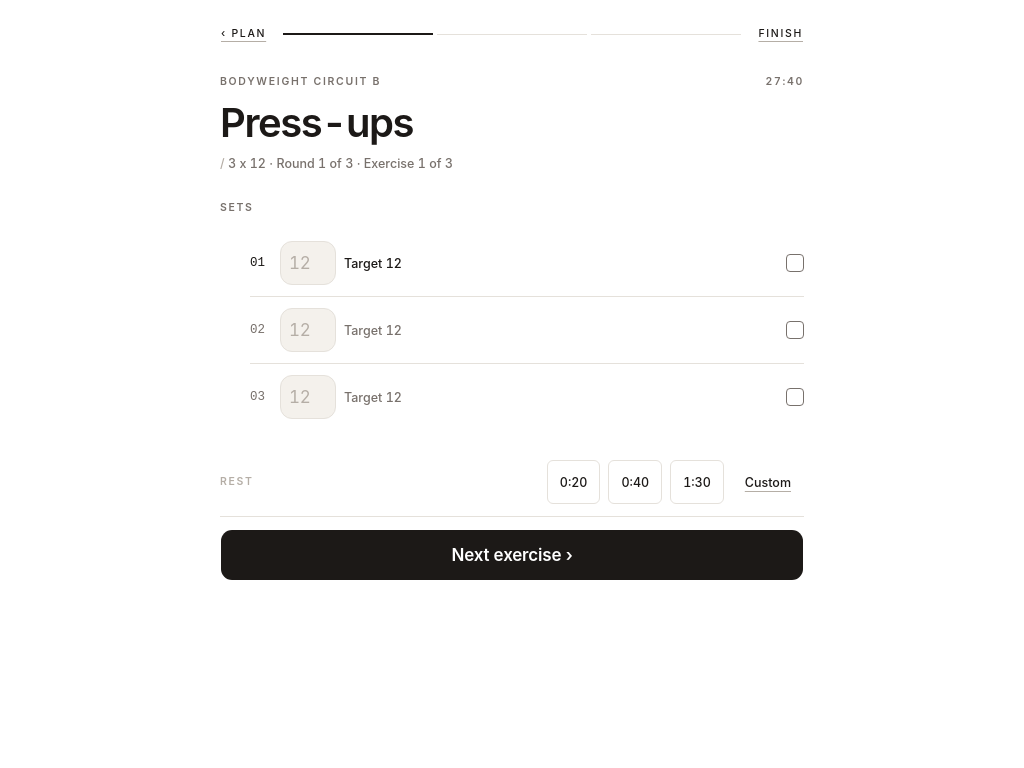
Test: the session clock — FUEL-124 › Mark done with an empty duration records the elapsed minutes
This screenshot has width=1024, height=768.
Click the button with aria-label "Finish session" at x=781, y=34, box [758,12,804,56]
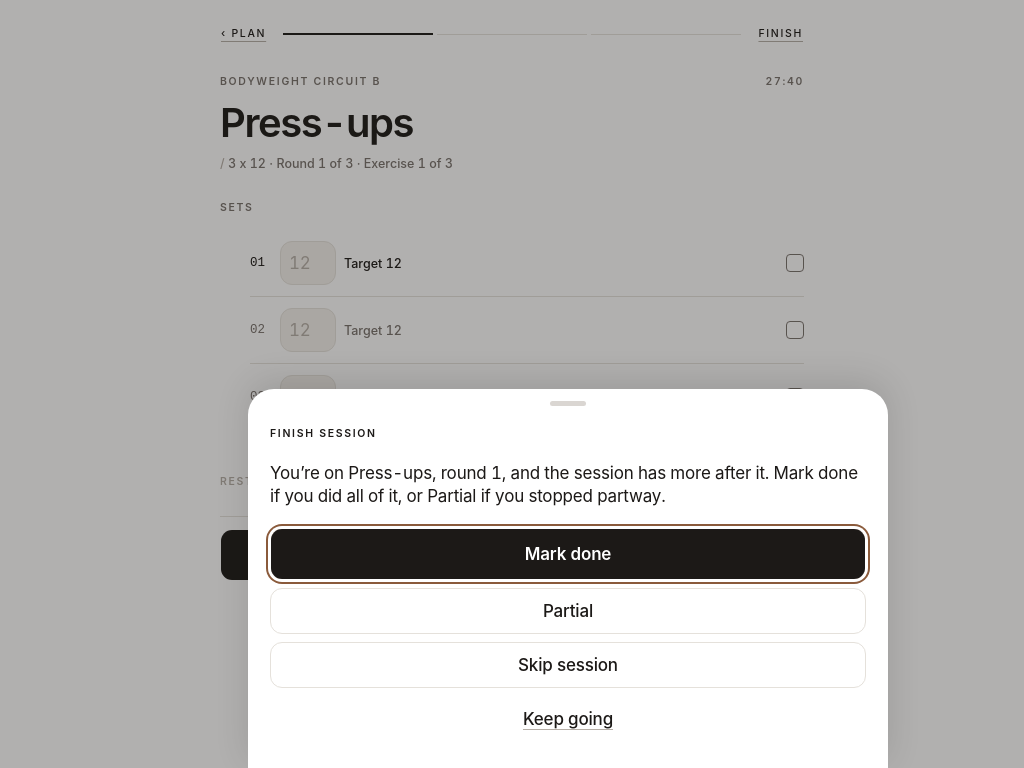
Click the button "Mark done" at x=568, y=554, box [270,528,866,580]
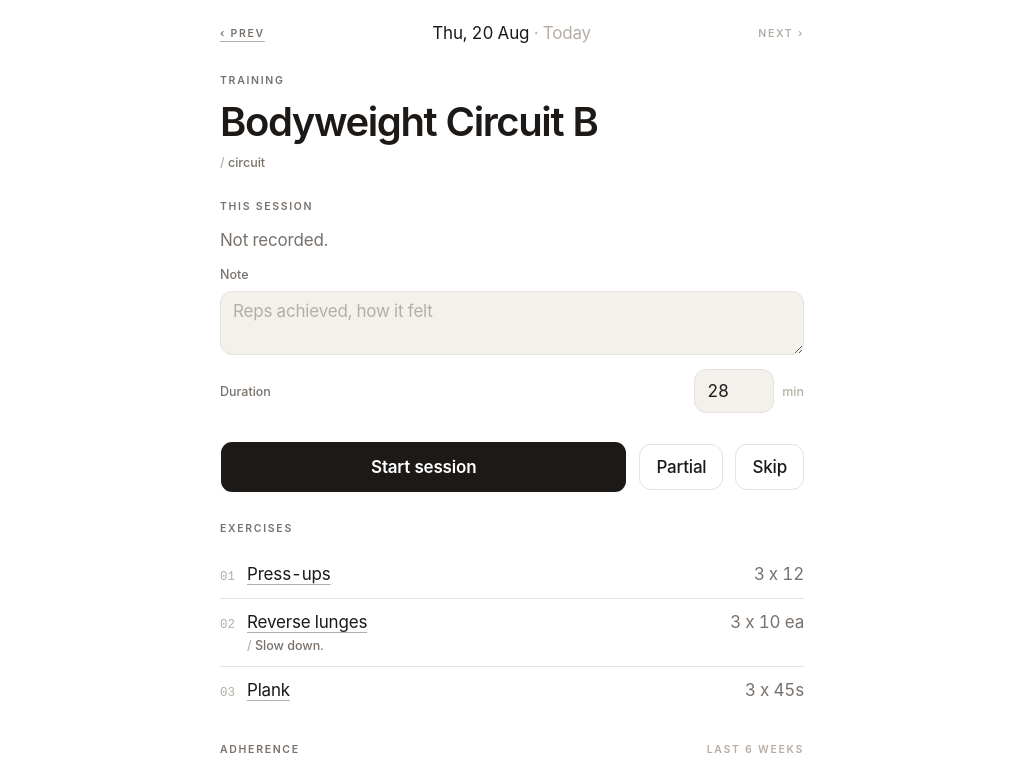
Result: the field labelled "Duration" holds "28" at [694,369,774,413]
